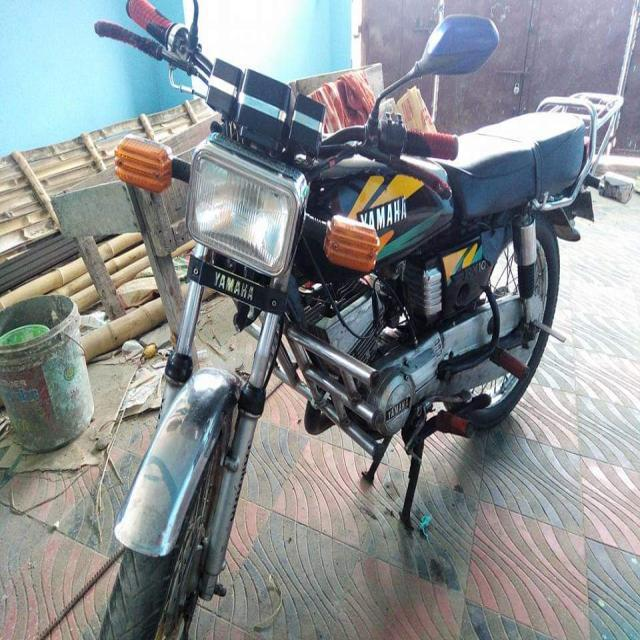Motorbike: (90, 1, 632, 640)
